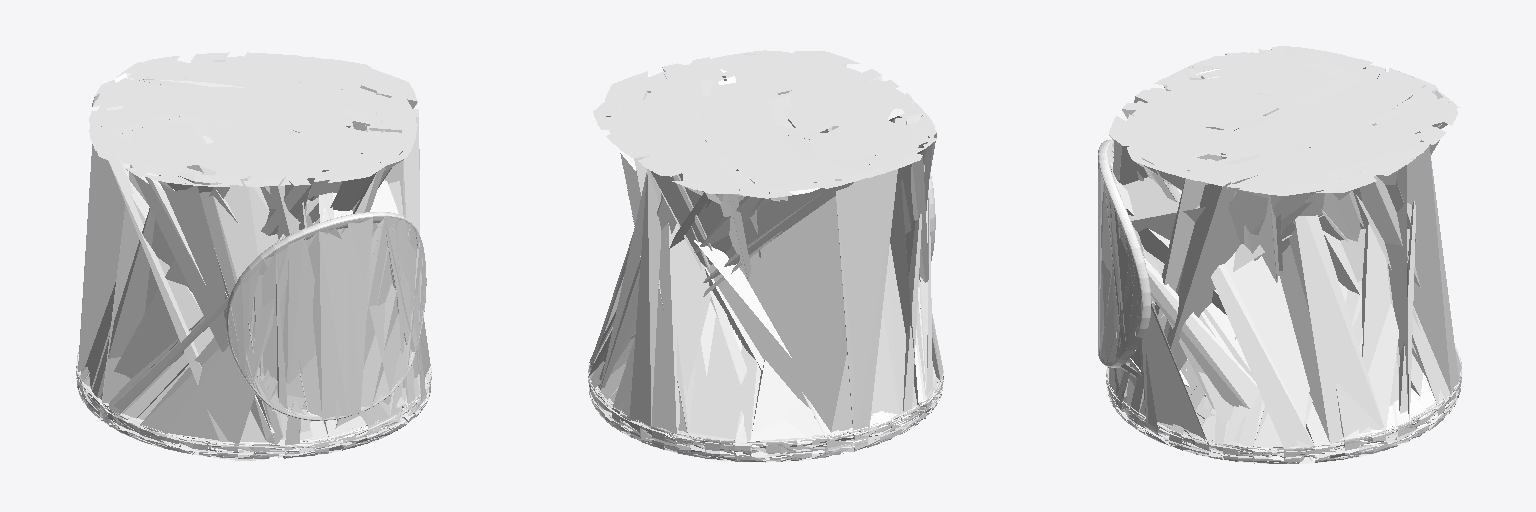
File: pet_house.obj
3 renders of one model, left to right at view 1: azimuth 30°, elevation 25°; view 2: azimuth 150°, elevation 25°; view 3: azimuth 270°, elevation 25°, orthographic.
Parts seen in each view (by area): view 1: wall, cap, pillow, border; view 2: wall, pillow; view 3: wall, pillow, border, cap.
Boxes of the visible parts, x1=… form: wall: x1=76, y1=52, x2=431, y2=460; cap: x1=227, y1=217, x2=425, y2=419; pillow: x1=76, y1=212, x2=431, y2=451; border: x1=226, y1=212, x2=426, y2=420; wall: x1=588, y1=50, x2=943, y2=462; pillow: x1=588, y1=363, x2=943, y2=452; wall: x1=1098, y1=46, x2=1461, y2=463; pillow: x1=1099, y1=143, x2=1461, y2=458; border: x1=1098, y1=140, x2=1150, y2=367; cap: x1=1098, y1=145, x2=1155, y2=365.
Bounding box in the file's own units: 31.07 × 25.99 × 31.72.